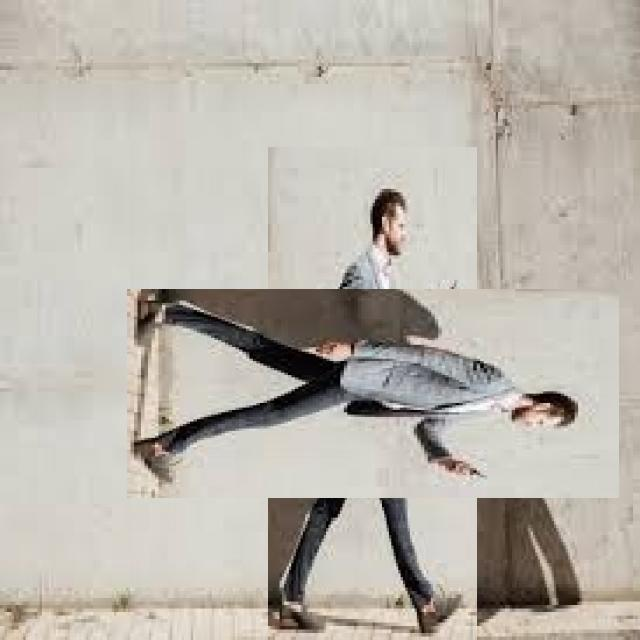NotFall: (187, 308, 595, 519)
